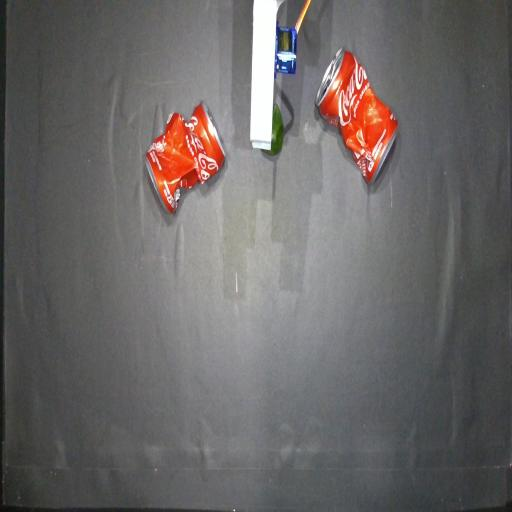higo: (262, 103, 285, 155)
lata_defectuoso: (315, 48, 397, 183), (145, 103, 225, 213)
